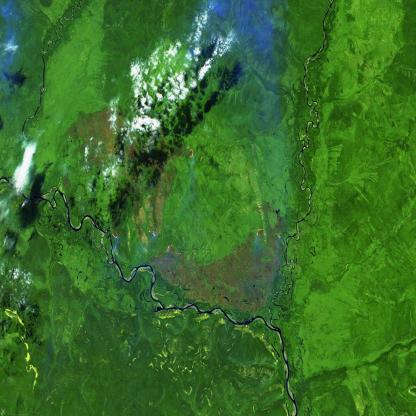fire: (154, 242, 200, 261), (251, 221, 268, 243), (184, 140, 196, 168), (108, 227, 123, 244), (147, 222, 158, 238)
